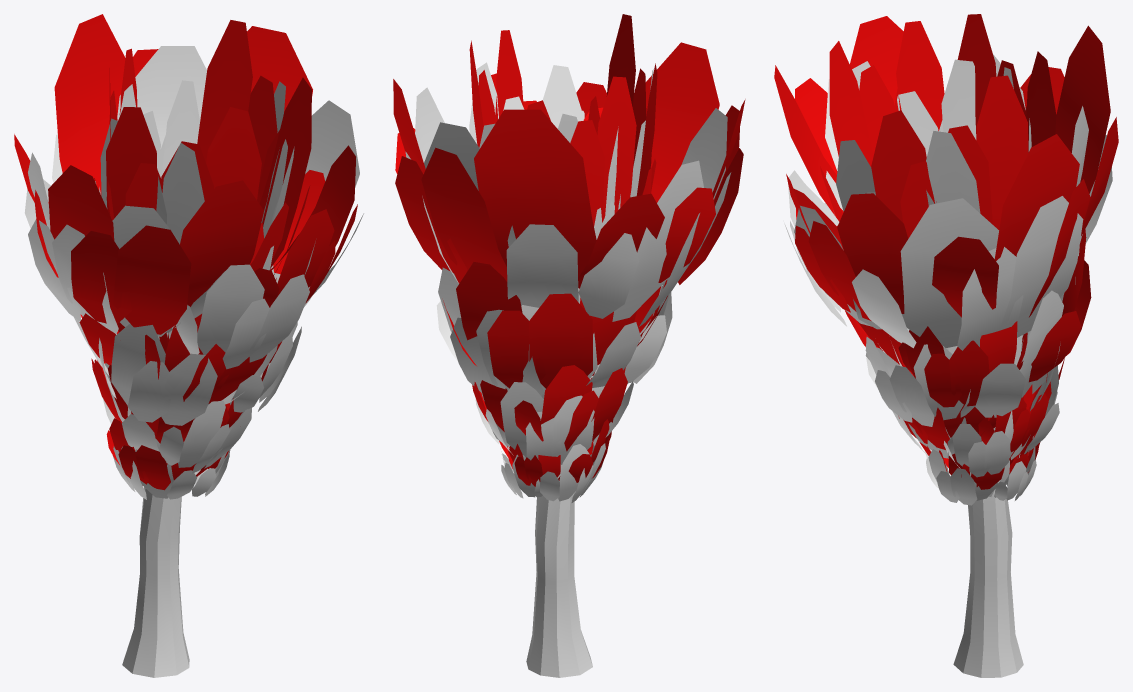
File: tree03.fbx
3 views of the same model, side by side, from view 1: azimuth 30°, elevation 25°; view 2: azimuth 150°, elevation 25°; view 3: azimuth 270°, elevation 25° (orthographic). The views are drawn at different scales.
Parts seen in each view (by area): view 1: tree01; view 2: tree01; view 3: tree01.
Part boxes in pixels (x1=…): tree01: x1=14, y1=14, x2=363, y2=677; tree01: x1=393, y1=14, x2=745, y2=677; tree01: x1=774, y1=14, x2=1118, y2=677.
Bounding box in the file's own units: 200 × 381 × 189.
